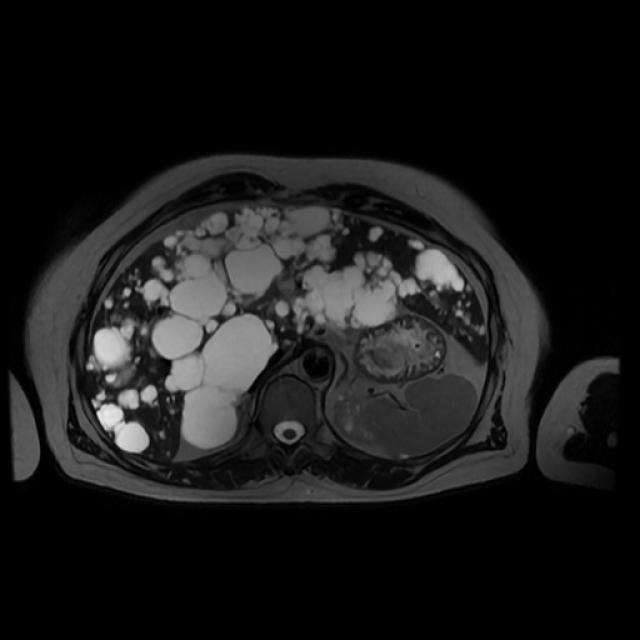sol: (336, 394, 377, 449)
